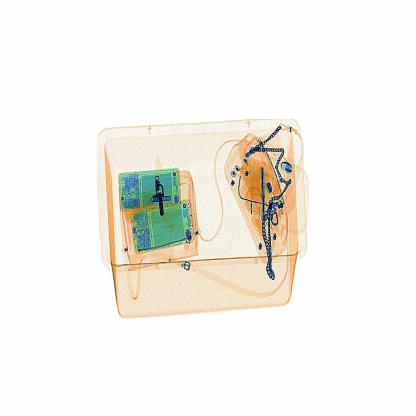knife: (254, 160, 275, 226)
